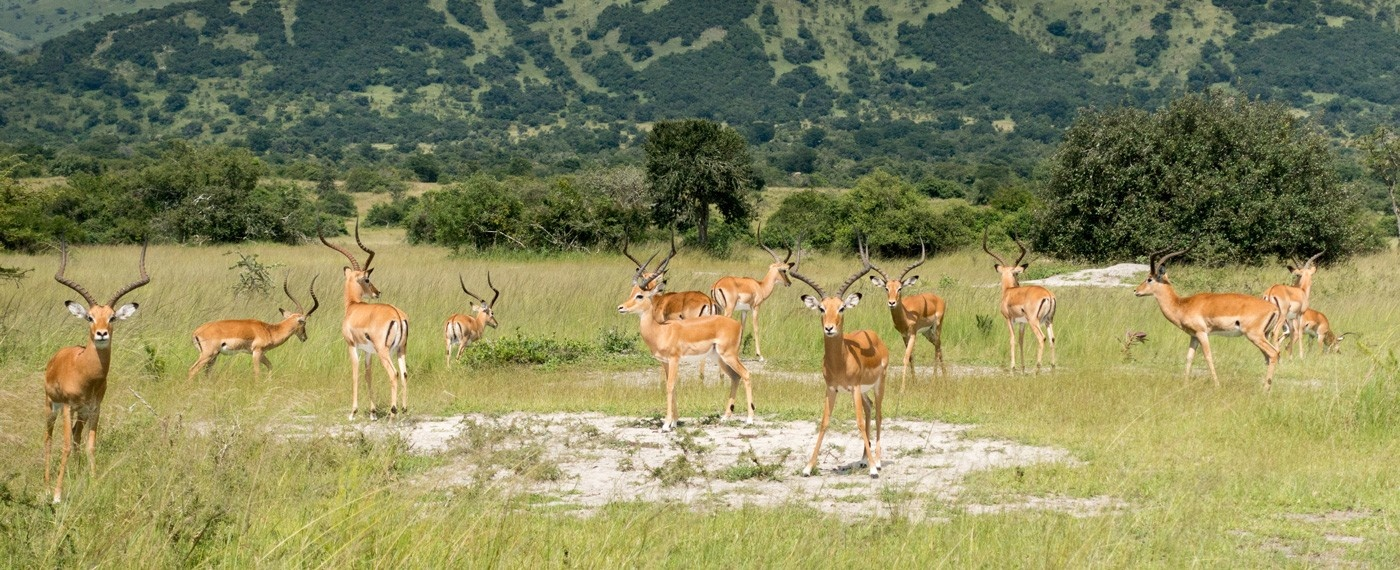impala: (33, 224, 154, 510), (615, 253, 771, 435), (783, 235, 897, 483), (306, 211, 422, 425), (1130, 234, 1284, 391), (169, 265, 328, 392), (861, 229, 959, 392), (976, 221, 1073, 379), (712, 221, 811, 368), (437, 264, 507, 378), (1265, 239, 1324, 361)
